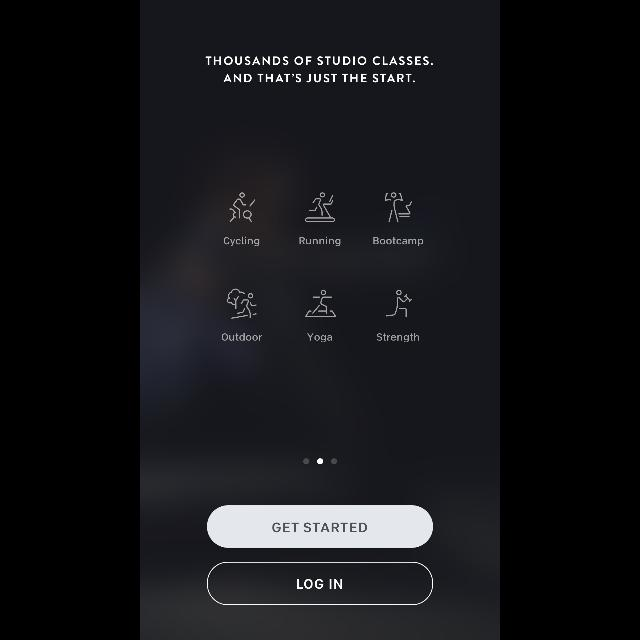image: (227, 289, 257, 319), (305, 192, 335, 222), (306, 290, 336, 318), (384, 192, 412, 222), (230, 193, 256, 223), (386, 290, 412, 316)
pageindicator: (303, 458, 337, 464)
text: (205, 57, 432, 83), (373, 238, 423, 246), (300, 237, 340, 247), (377, 333, 419, 342), (224, 236, 260, 246), (222, 333, 262, 341), (308, 333, 332, 342)
textbutton: (207, 561, 433, 605), (207, 506, 433, 548)
